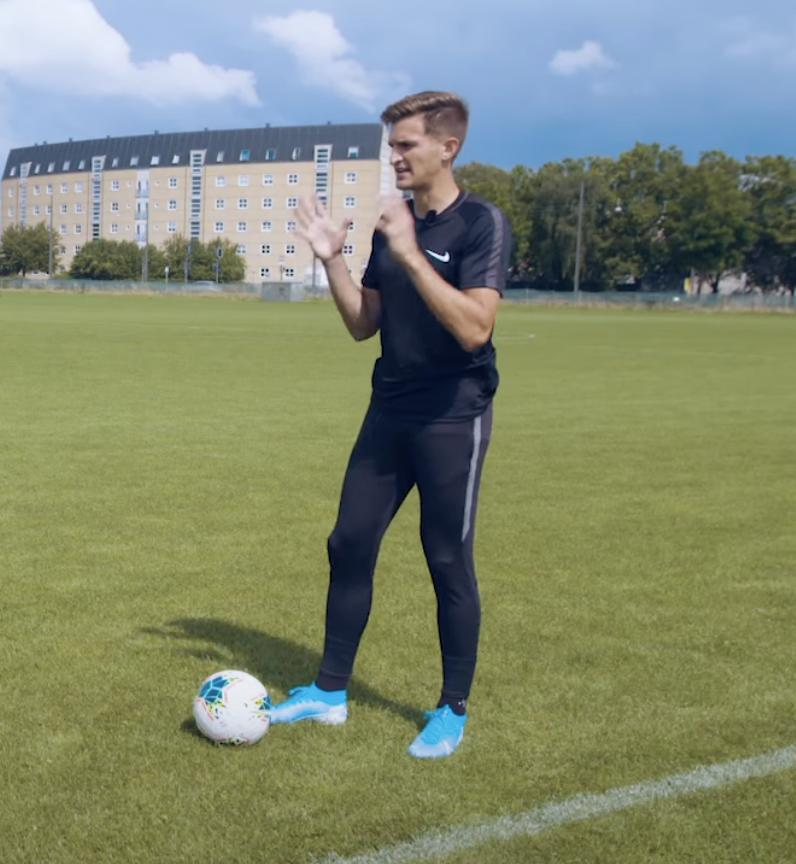ball: (191, 671, 269, 752)
foot: (270, 682, 352, 728), (408, 703, 467, 759)
person: (268, 96, 507, 761)
